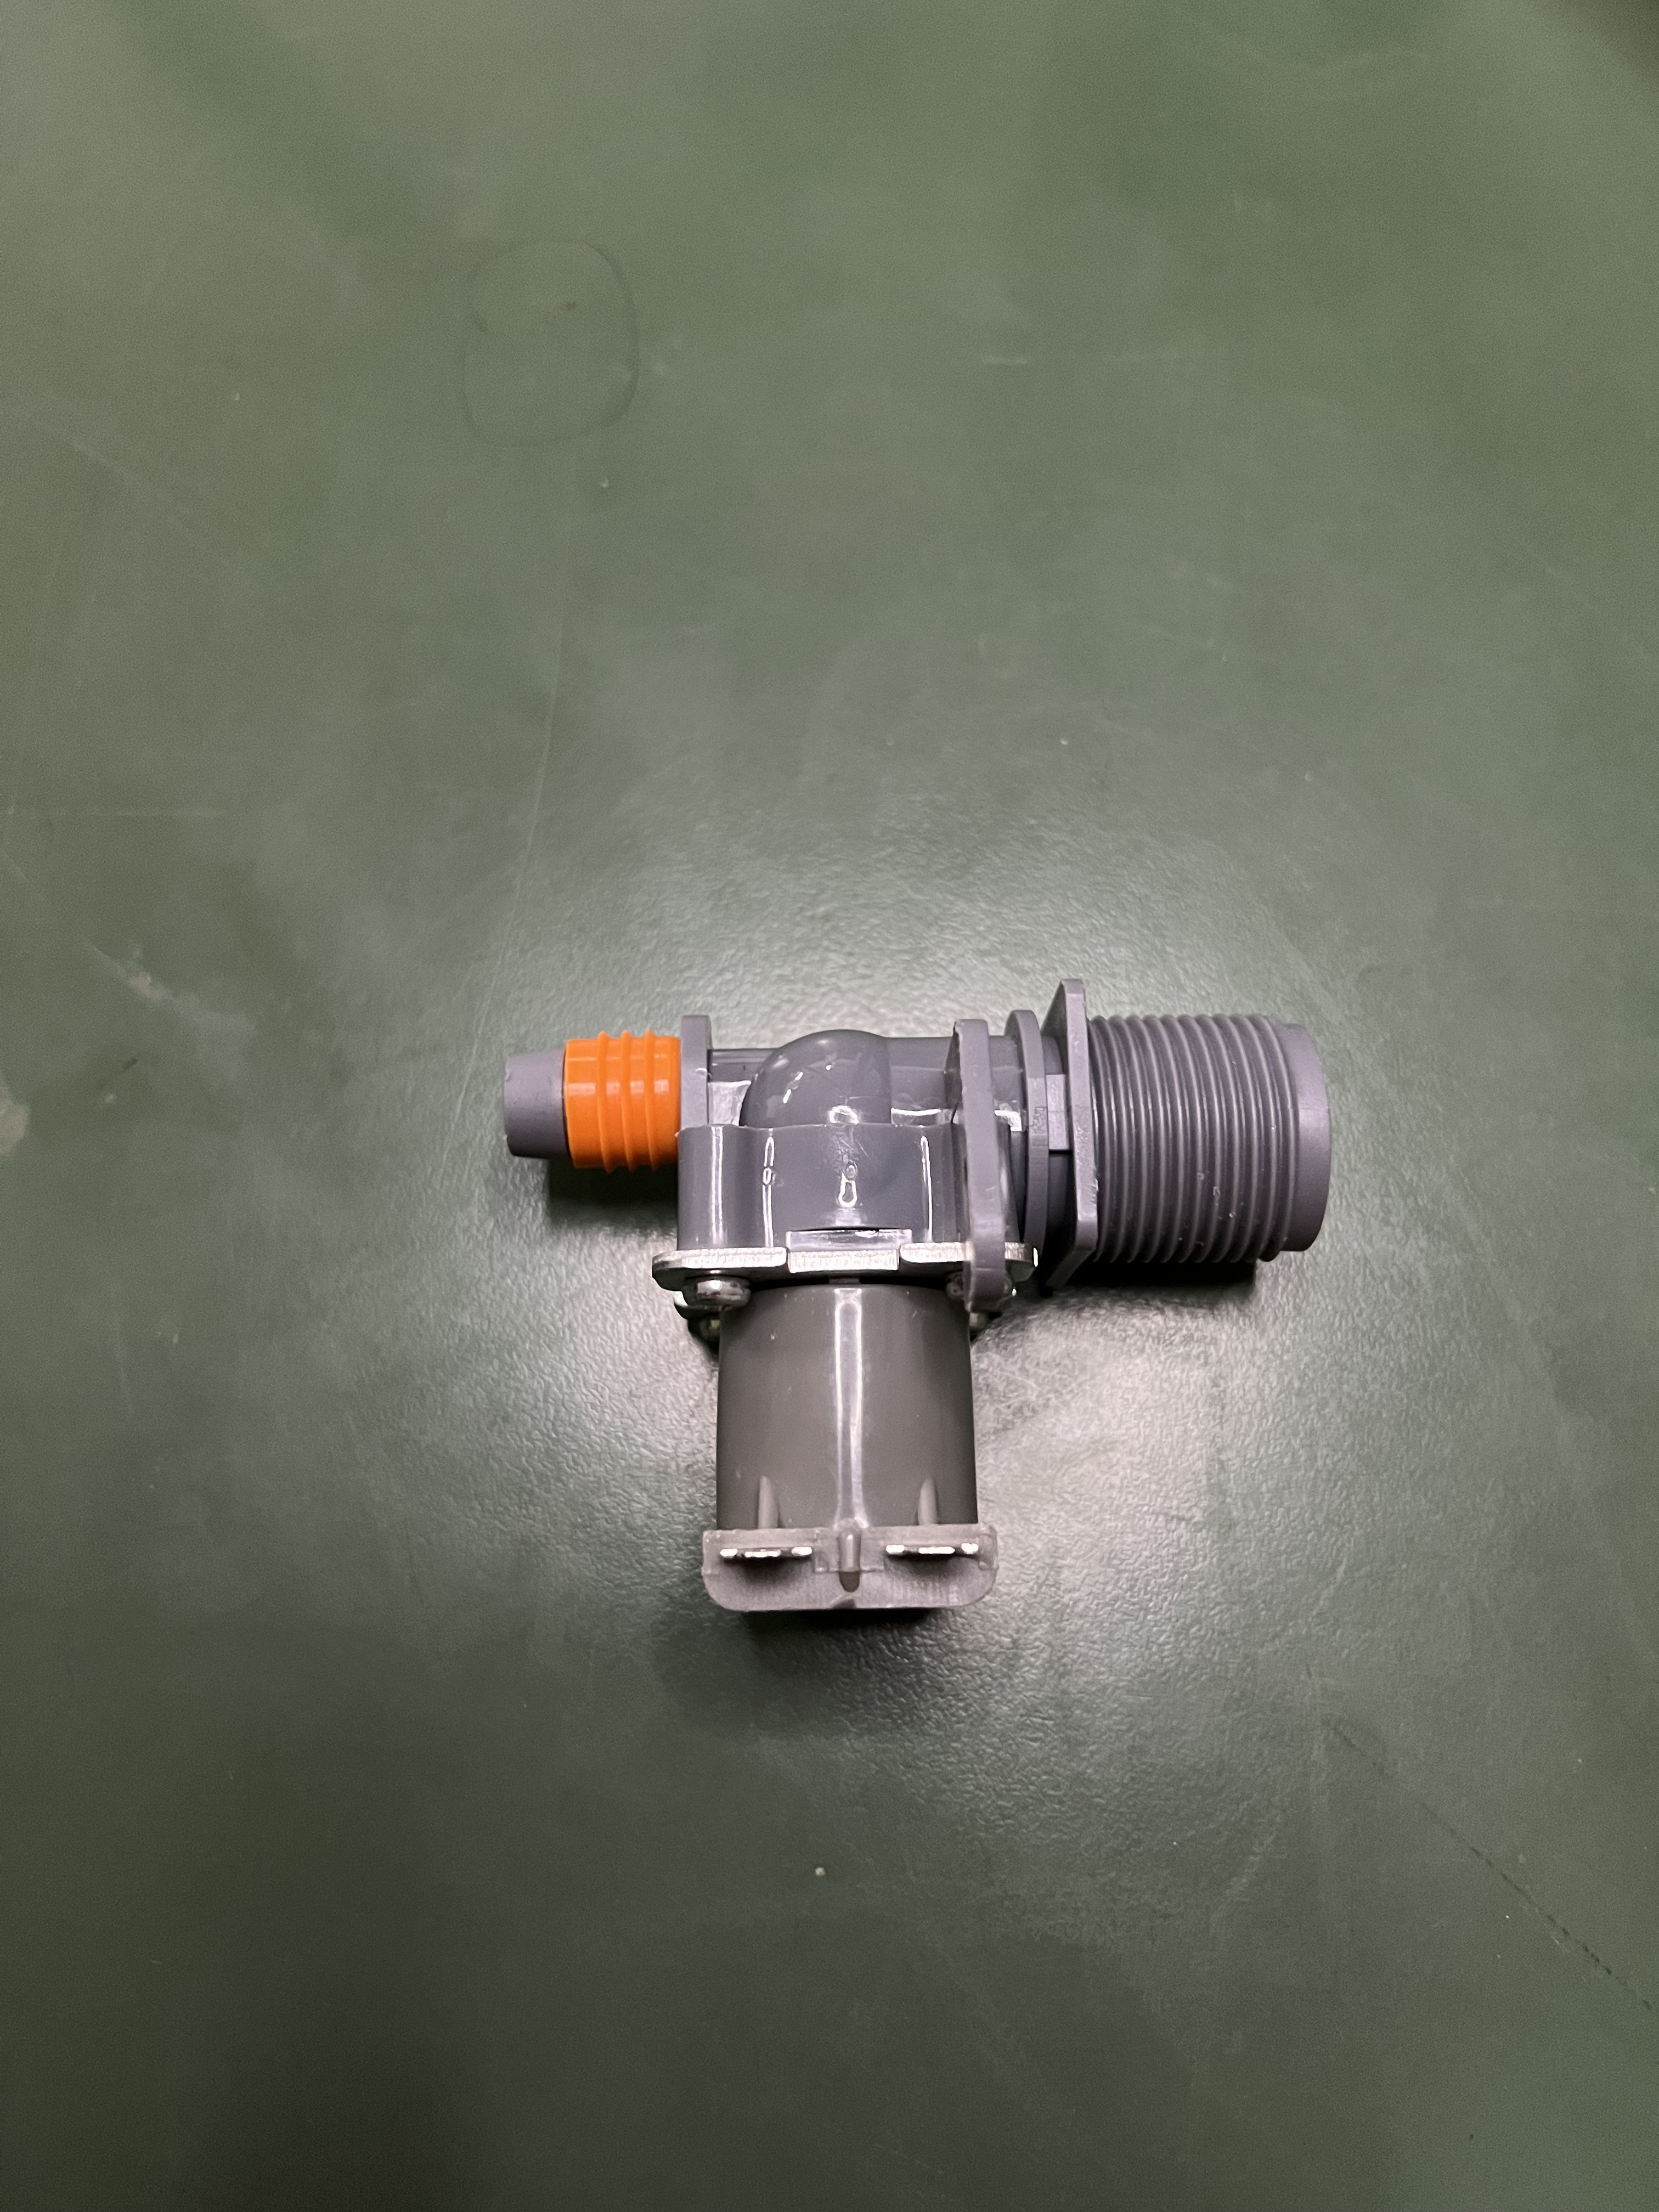inlet_valves: (446, 993, 1385, 1663)
